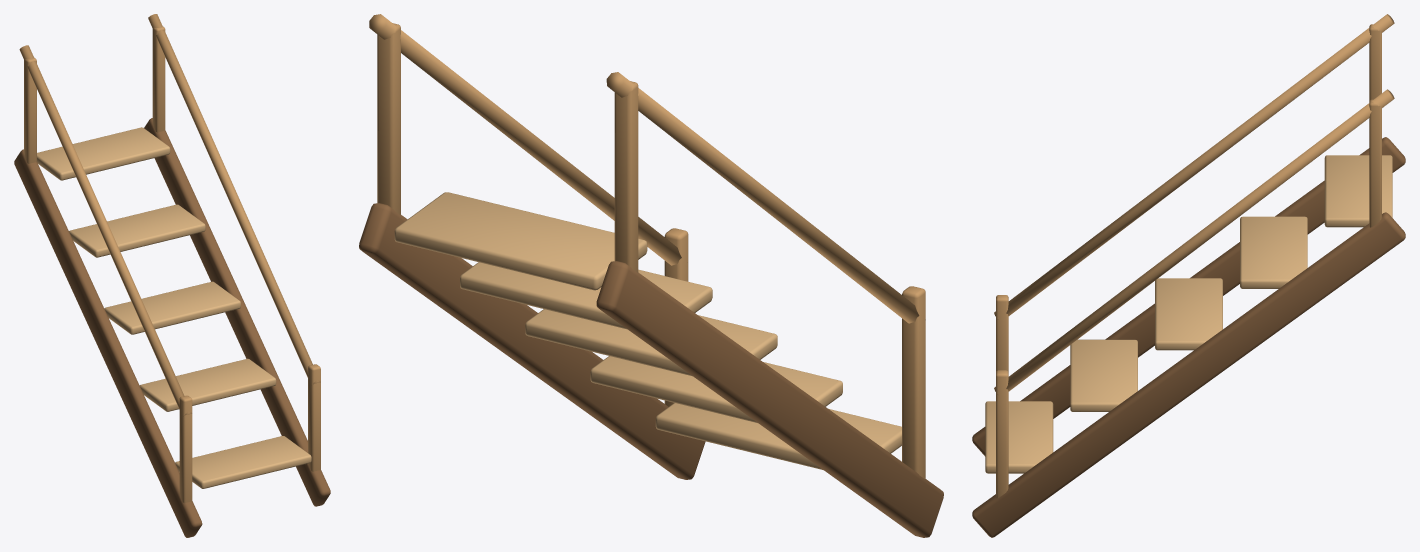
Rendered from attic-stairs.glb.
3 renders of one model, left to right at view 1: azimuth 30°, elevation 25°; view 2: azimuth 150°, elevation 25°; view 3: azimuth 270°, elevation 25°, orthographic. The views are drawn at different scales.
Parts seen in each view (by area): view 1: stairs; view 2: stairs; view 3: stairs.
Boxes of the visible parts, <box> form: stairs: <box>14,14,330,537</box>; stairs: <box>359,14,943,537</box>; stairs: <box>972,14,1405,537</box>.
Bounding box in the file's own units: 0.91 × 2.32 × 2.04.
